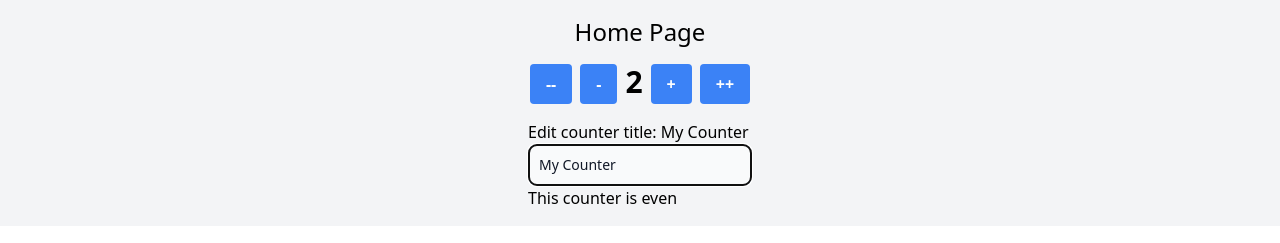
Test case: HomePage.vue › should the counter element decrement by two when the button is clicked
Click the button with class "double-decrement" at (551, 84), box [530,64,572,104]
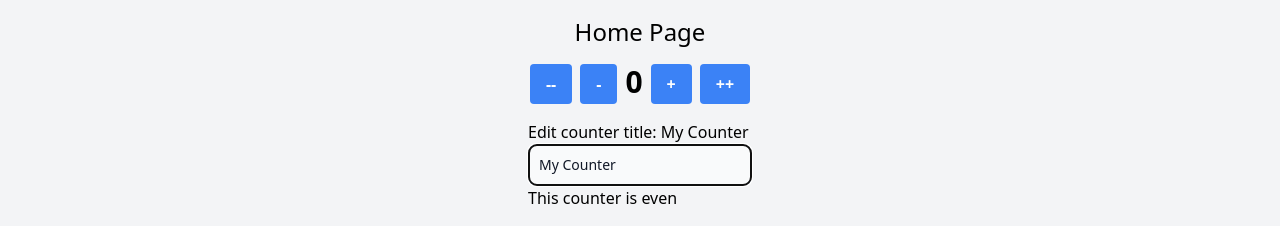
Expected: the text with class "counter" reads "0", [625,61,643,102]
